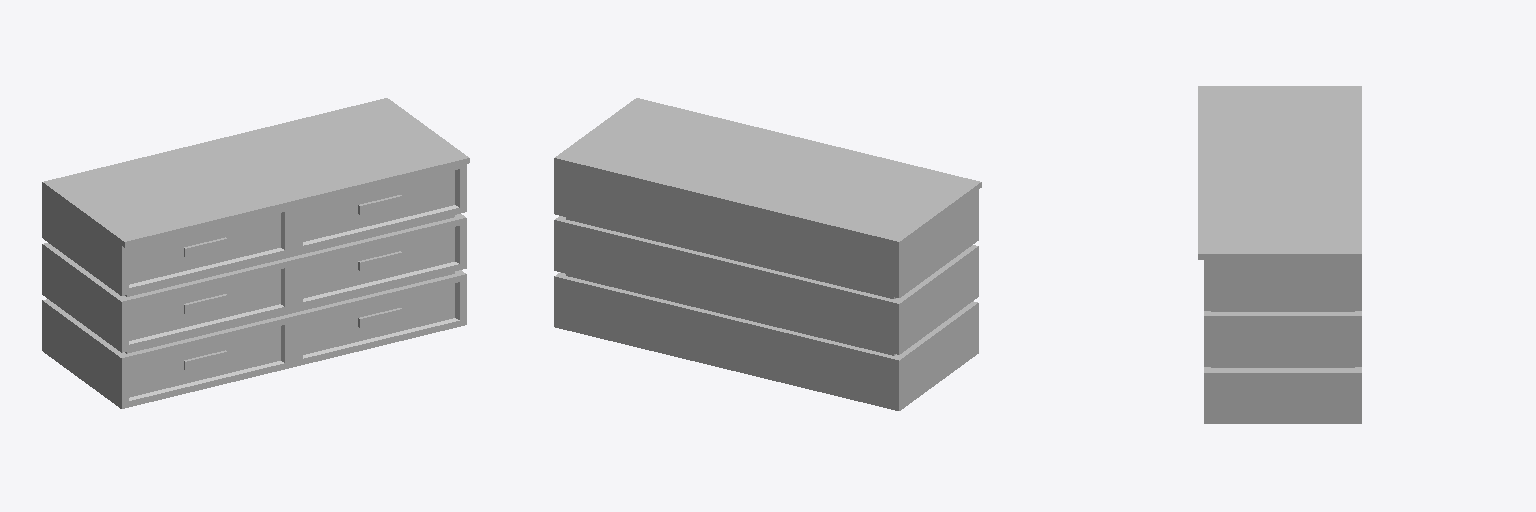
Rendered from Drawer_5.obj.
3 views of the same model, side by side, from view 1: azimuth 30°, elevation 25°; view 2: azimuth 150°, elevation 25°; view 3: azimuth 270°, elevation 25° (orthographic).
Parts seen in each view (by area): view 1: Drawer_5; view 2: Drawer_5; view 3: Drawer_5.
Boxes of the visible parts, x1=… form: Drawer_5: x1=42, y1=98, x2=469, y2=408; Drawer_5: x1=554, y1=98, x2=981, y2=410; Drawer_5: x1=1198, y1=86, x2=1361, y2=423.
Bounding box in the file's own units: 2.79 × 1.33 × 1.15.